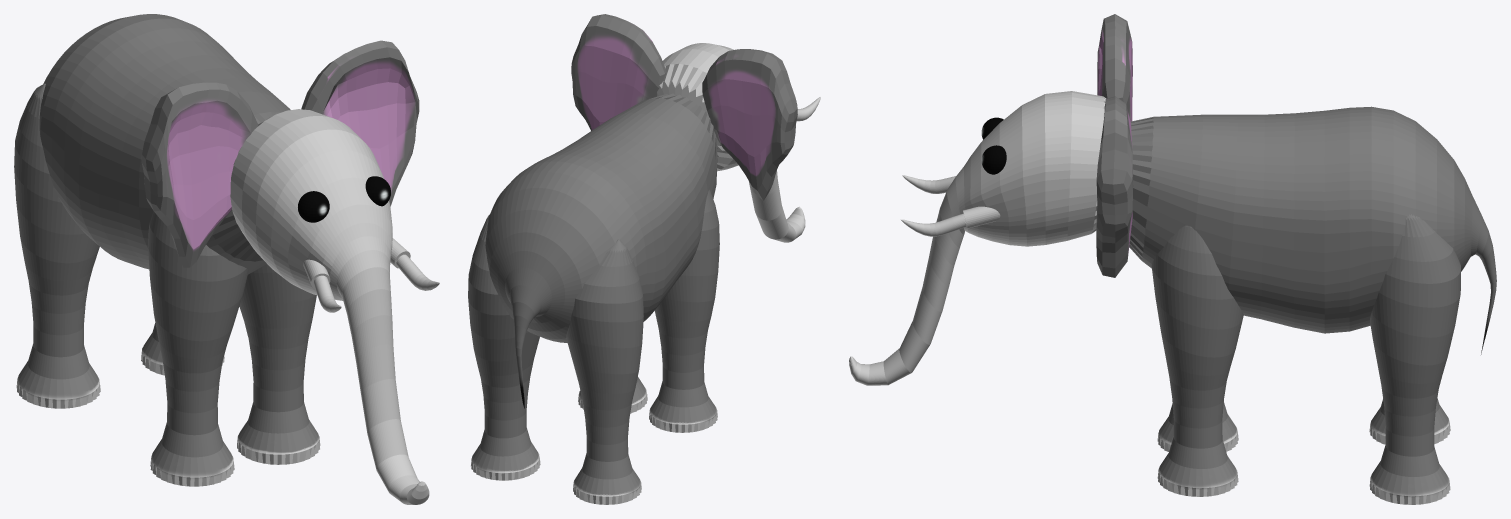
Rendered from ELEFANTE.fbx.
3 views of the same model, side by side, from view 1: azimuth 30°, elevation 25°; view 2: azimuth 150°, elevation 25°; view 3: azimuth 270°, elevation 25° (orthographic). The views are drawn at different scales.
Parts seen in each view (by area): view 1: Cilindro.002, Cilindro.005, Cilindro, Plano.001, Esfera.001, Cilindro.008, Cilindro.007; view 2: Cilindro, Cilindro.002, Plano.001, Cilindro.005; view 3: Cilindro, Cilindro.002, Cilindro.005, Plano.001, Cilindro.008, Esfera.001.
Boxes of the visible parts, left/top/right/bottom form: Cilindro.002: left=14, top=83, right=320, bottom=486; Cilindro.005: left=230, top=109, right=429, bottom=504; Cilindro: left=39, top=14, right=290, bottom=274; Plano.001: left=141, top=40, right=419, bottom=267; Esfera.001: left=298, top=176, right=390, bottom=222; Cilindro.008: left=313, top=254, right=439, bottom=312; Cilindro.007: left=303, top=238, right=410, bottom=288; Cilindro: left=485, top=93, right=717, bottom=408; Cilindro.002: left=468, top=190, right=719, bottom=504; Plano.001: left=571, top=14, right=797, bottom=200; Cilindro.005: left=657, top=43, right=805, bottom=242; Cilindro: left=1129, top=106, right=1496, bottom=354; Cilindro.002: left=1151, top=214, right=1460, bottom=504; Cilindro.005: left=849, top=91, right=1106, bottom=385; Plano.001: left=1096, top=14, right=1133, bottom=277; Cilindro.008: left=901, top=175, right=966, bottom=236; Esfera.001: left=981, top=117, right=1006, bottom=174.
Size of the model in its own units: 241 by 373 by 539.
